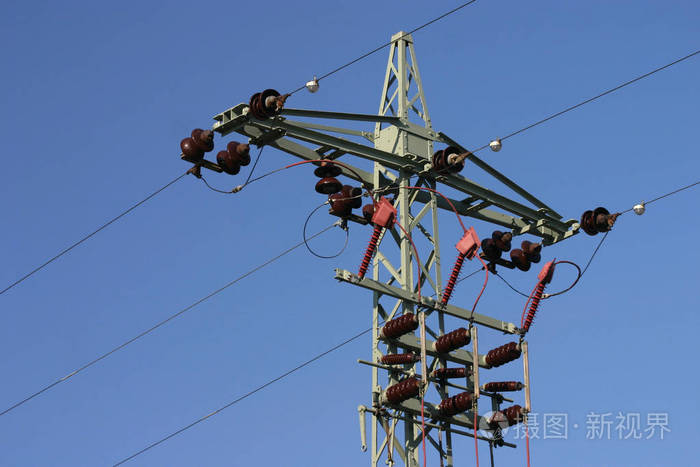insulator: (215, 141, 254, 176), (245, 87, 283, 121), (177, 127, 216, 158), (310, 162, 342, 199), (328, 185, 359, 218), (580, 207, 614, 237), (508, 241, 544, 268), (431, 147, 467, 174), (480, 231, 515, 256)
